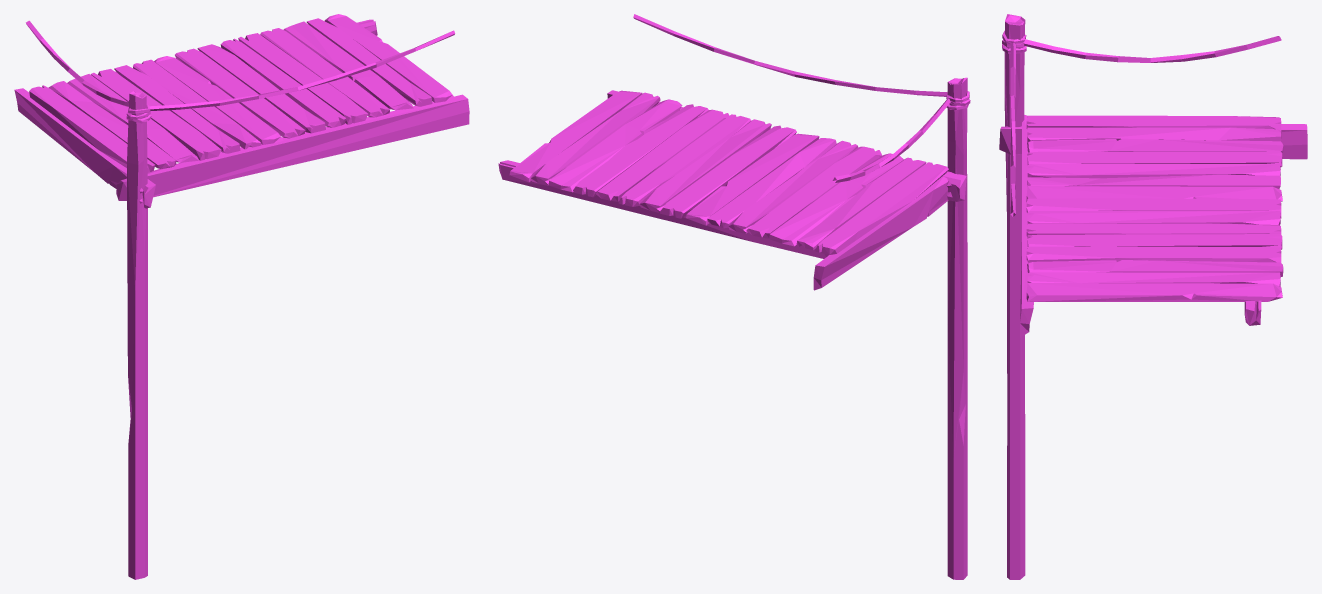
The model's file is SM_Pier_Platform_Rope_Corner_A_Fantasy.fbx.
The picture shows the model from 3 angles, left to right: view 1: azimuth 30°, elevation 25°; view 2: azimuth 150°, elevation 25°; view 3: azimuth 270°, elevation 25°; orthographic projection. The views are drawn at different scales.
Visible parts, largest first — view 1: SM_Pier_Platform_Rope_Corner_A_Fantasy; view 2: SM_Pier_Platform_Rope_Corner_A_Fantasy; view 3: SM_Pier_Platform_Rope_Corner_A_Fantasy.
Boxes of the visible parts, <box> form: SM_Pier_Platform_Rope_Corner_A_Fantasy: <box>14,14,469,579</box>; SM_Pier_Platform_Rope_Corner_A_Fantasy: <box>498,14,970,579</box>; SM_Pier_Platform_Rope_Corner_A_Fantasy: <box>999,14,1307,579</box>.
Size of the model in its own units: 5.55 by 7.25 by 3.63.
